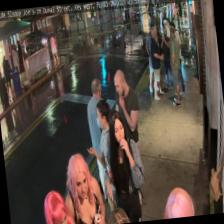person: (98, 107, 148, 224), (82, 93, 126, 220), (111, 67, 150, 206), (84, 77, 116, 202), (60, 151, 107, 224), (42, 188, 73, 224)
